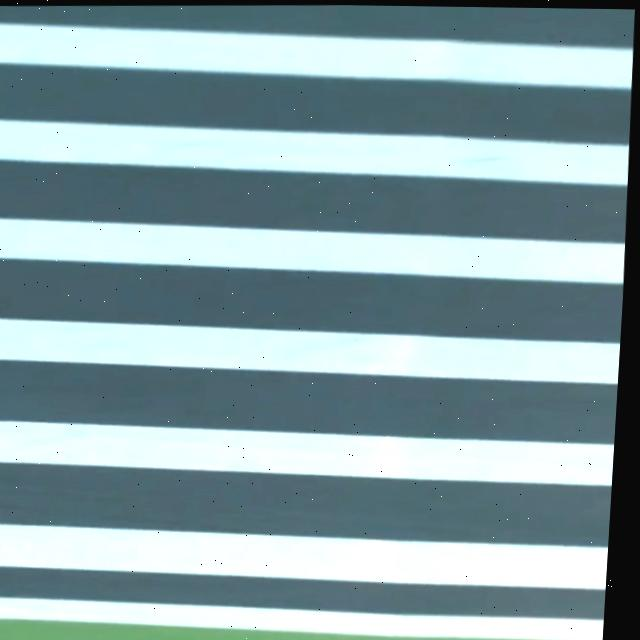right: (0, 596, 604, 640)
